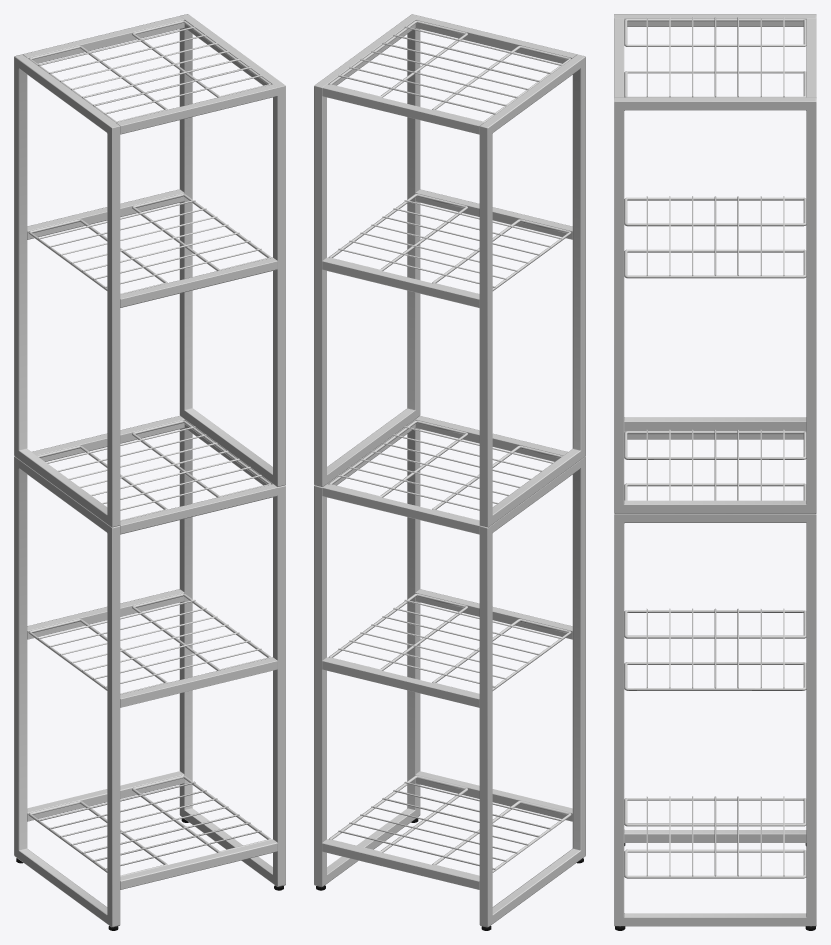
File: jostein_rega_89437197.glb
3 views of the same model, side by side, from view 1: azimuth 30°, elevation 25°; view 2: azimuth 150°, elevation 25°; view 3: azimuth 270°, elevation 25° (orthographic). The views are drawn at different scales.
Parts seen in each view (by area): view 1: jostein_rega_89437197; view 2: jostein_rega_89437197; view 3: jostein_rega_89437197.
Boxes of the visible parts, x1,y1,x2,y2 form: jostein_rega_89437197: [14, 14, 285, 930]; jostein_rega_89437197: [314, 14, 585, 930]; jostein_rega_89437197: [614, 14, 816, 930].
Size of the model in its own units: 0.4099 by 1.81 by 0.3998.
Materials: 3 (1 with a texture image).
